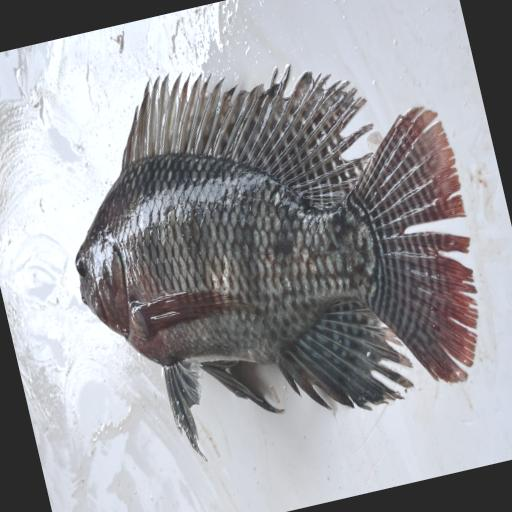Tilapia: (36, 14, 510, 481)
